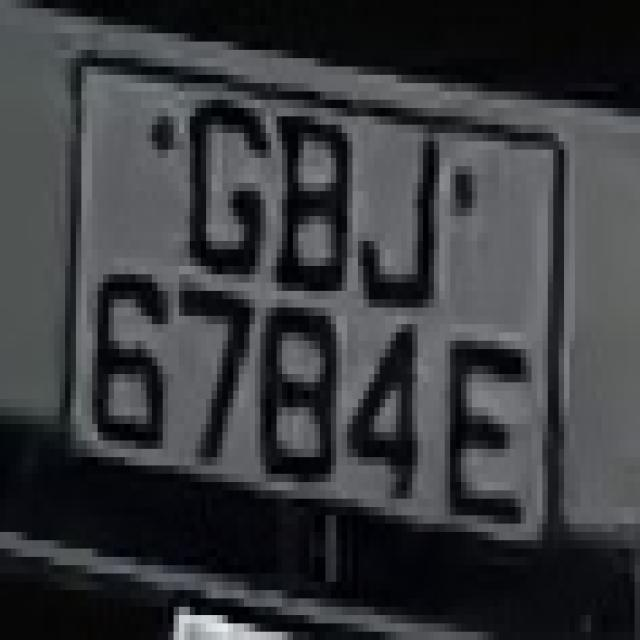4: (347, 274, 434, 524)
6: (76, 241, 173, 482)
7: (168, 258, 260, 482)
8: (266, 283, 352, 515)
B: (266, 83, 363, 333)
E: (439, 282, 537, 548)
G: (168, 75, 277, 316)
J: (358, 92, 456, 324)
